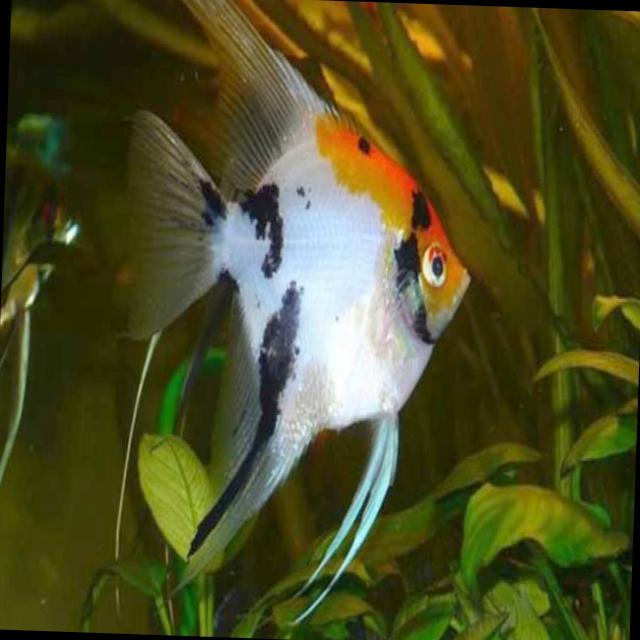AngelFish: (108, 0, 483, 603)
